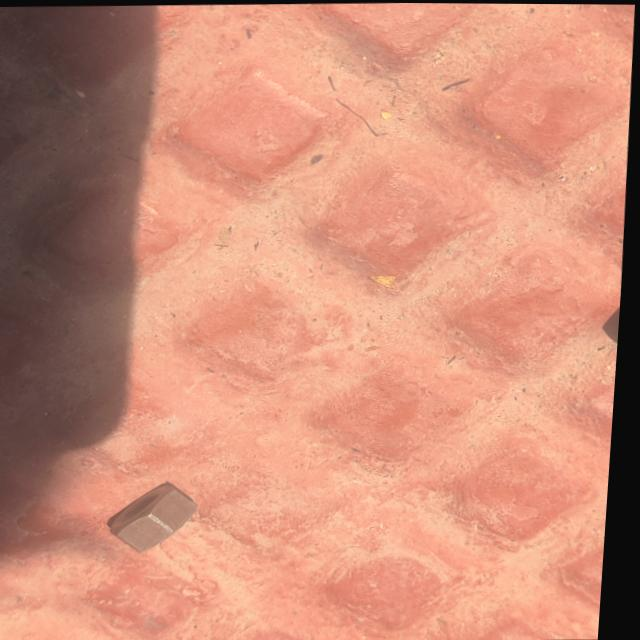disinfected nut: (116, 481, 203, 551)
